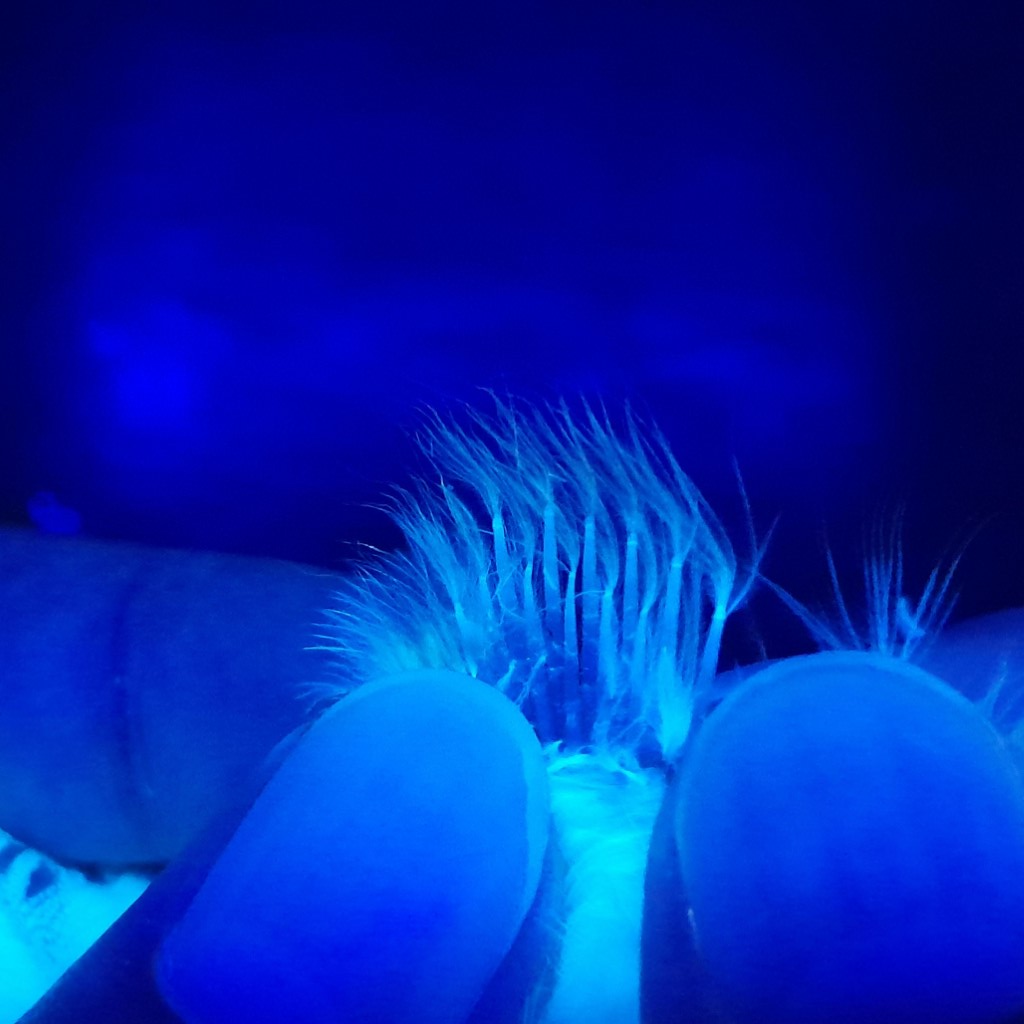female: (440, 480, 744, 799)
